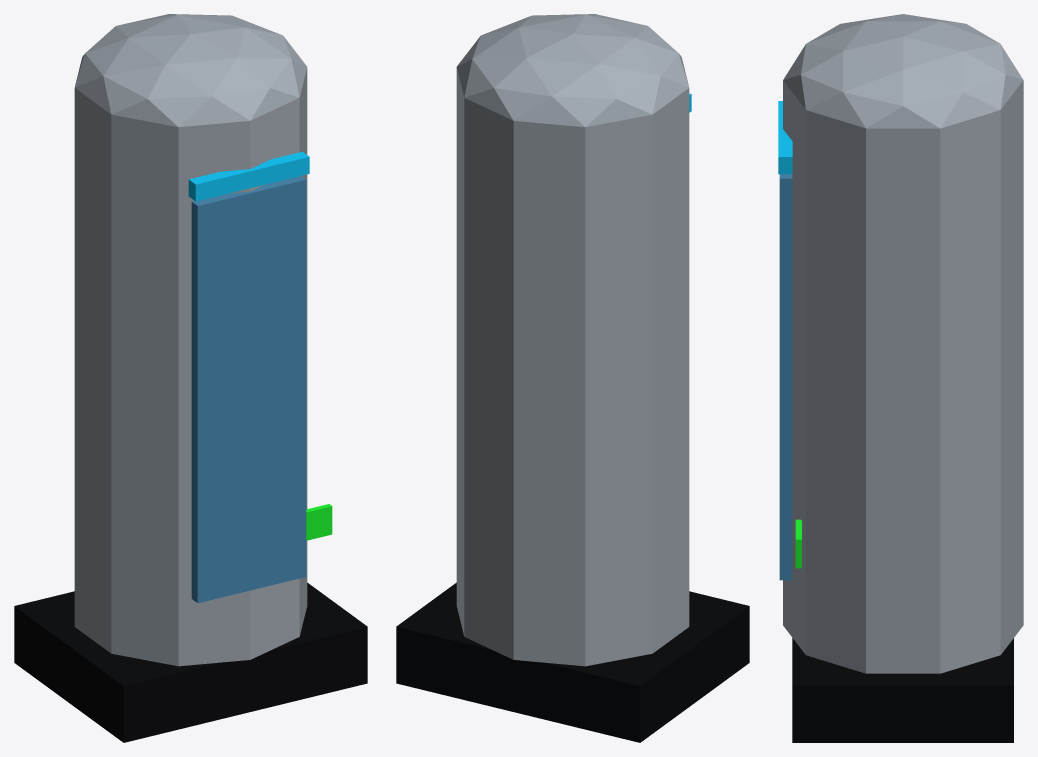
The model's file is cryo_pod.obj.
3 views of the same model, side by side, from view 1: azimuth 30°, elevation 25°; view 2: azimuth 150°, elevation 25°; view 3: azimuth 270°, elevation 25° (orthographic).
Visible parts, largest first — view 1: cryo_pod; view 2: cryo_pod; view 3: cryo_pod.
Part boxes in pixels (<box>): cryo_pod: <box>14,14,367,742</box>; cryo_pod: <box>396,14,749,742</box>; cryo_pod: <box>778,14,1023,742</box>.
Size of the model in its own units: 0.9 by 2.25 by 0.7745.
